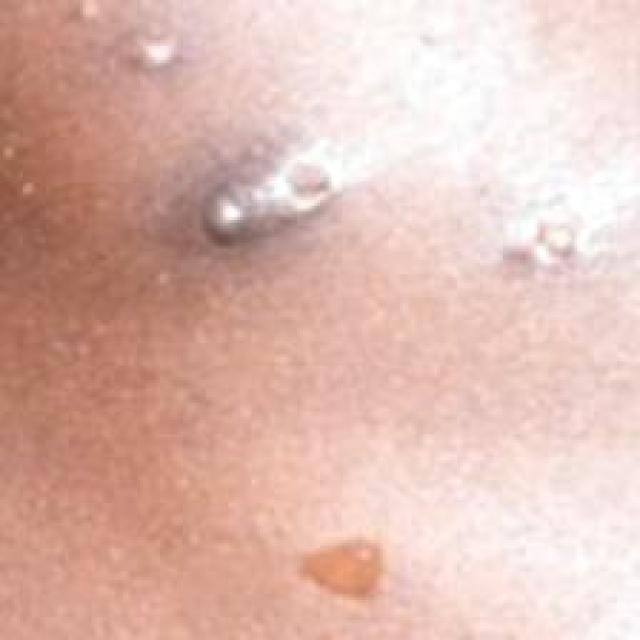monkeypox: (18, 0, 635, 590)
